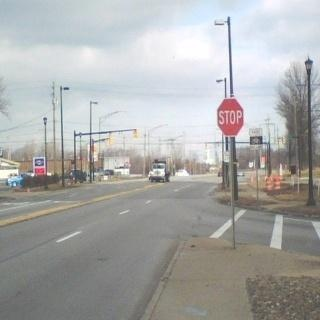sign_stop: (216, 98, 246, 134)
